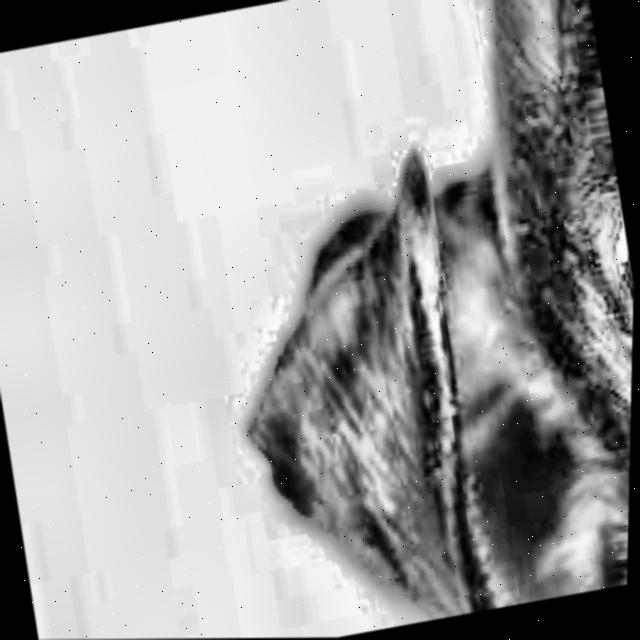dog: (114, 0, 640, 639)
